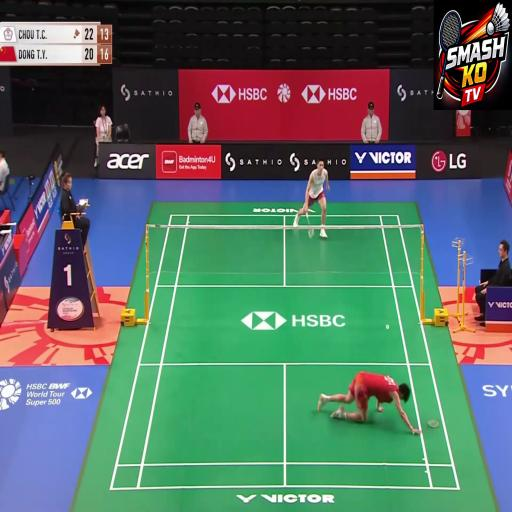player: (332, 340, 397, 455), (290, 124, 332, 270)
